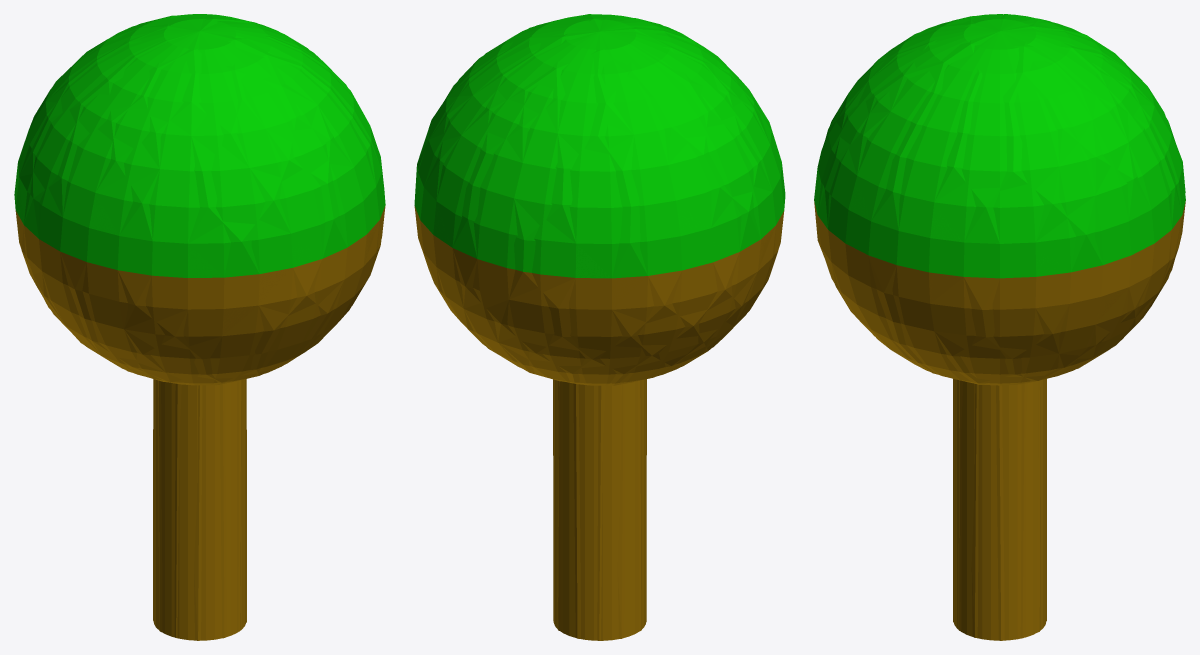
Rendered from tree.glb.
3 views of the same model, side by side, from view 1: azimuth 30°, elevation 25°; view 2: azimuth 150°, elevation 25°; view 3: azimuth 270°, elevation 25° (orthographic).
Visible parts, largest first — view 1: Tree, Tree-col; view 2: Tree, Tree-col; view 3: Tree, Tree-col.
Part boxes in pixels (left/top/right/bottom): Tree: left=14, top=14, right=385, bottom=640; Tree-col: left=15, top=14, right=385, bottom=640; Tree: left=414, top=14, right=785, bottom=640; Tree-col: left=414, top=14, right=785, bottom=640; Tree: left=814, top=14, right=1185, bottom=640; Tree-col: left=814, top=14, right=1185, bottom=640.
Bounding box in the file's own units: 2 × 3.5 × 2.
